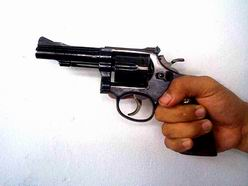gun: (31, 33, 223, 163)
